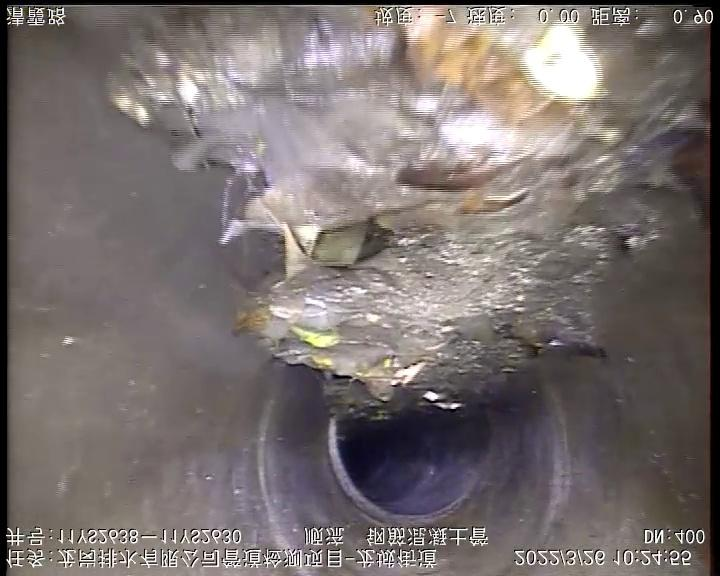CJ: (109, 7, 712, 420)
CKTJ: (321, 401, 499, 530)
